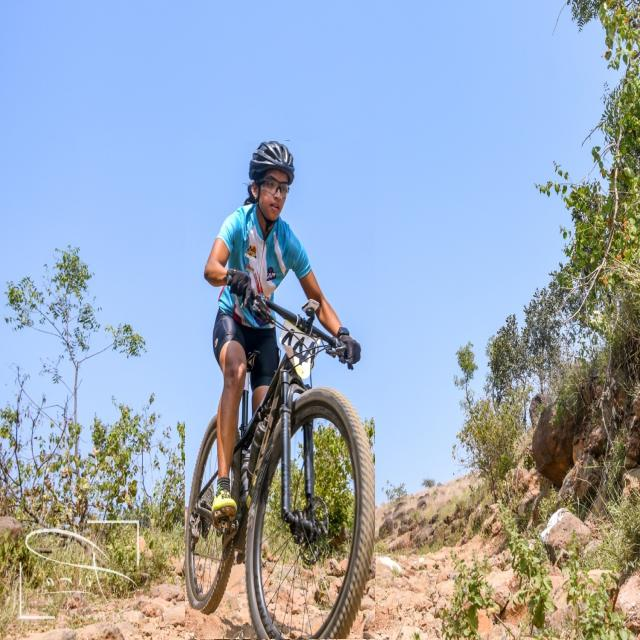bicycle: (185, 141, 375, 639)
